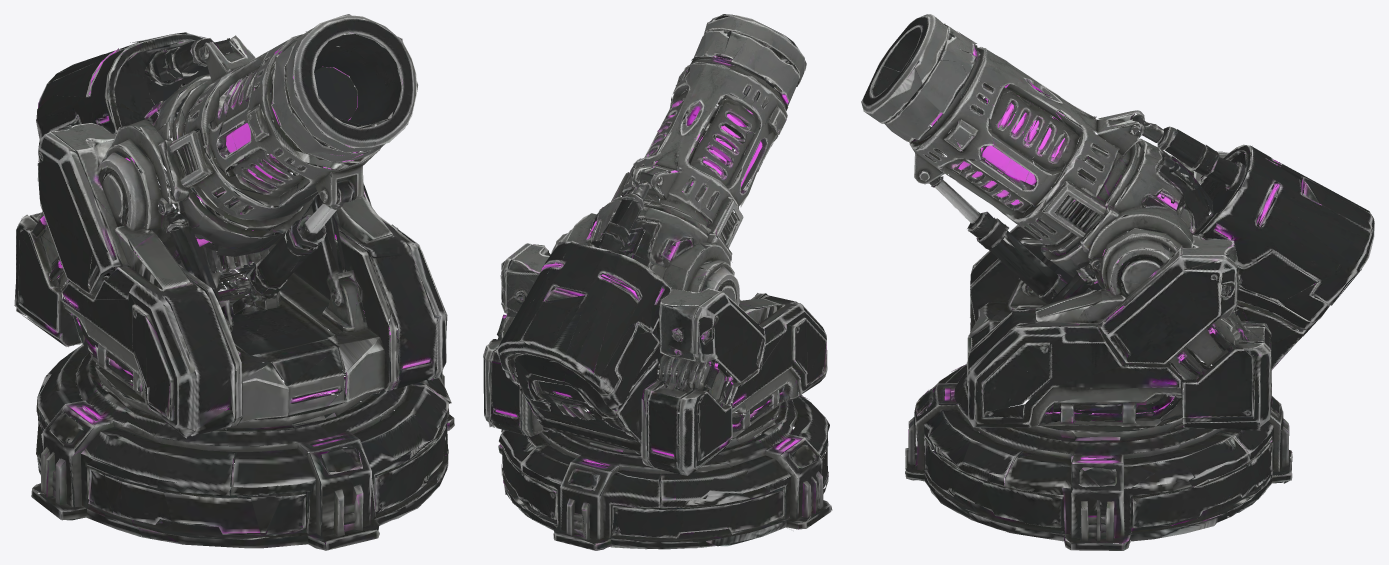
File: tower_plasma.glb
3 views of the same model, side by side, from view 1: azimuth 30°, elevation 25°; view 2: azimuth 150°, elevation 25°; view 3: azimuth 270°, elevation 25° (orthographic). The views are drawn at different scales.
Parts seen in each view (by area): view 1: head, base; view 2: head, base; view 3: head, base.
Boxes of the visible parts, <box> form: head: <box>14,14,447,438</box>; base: <box>31,300,454,550</box>; head: <box>483,14,827,475</box>; base: <box>498,358,832,550</box>; head: <box>861,14,1374,434</box>; base: <box>905,347,1292,550</box>.
Bounding box in the file's own units: 0.8233 × 1.04 × 1.08.
1 material, 1 textured.
